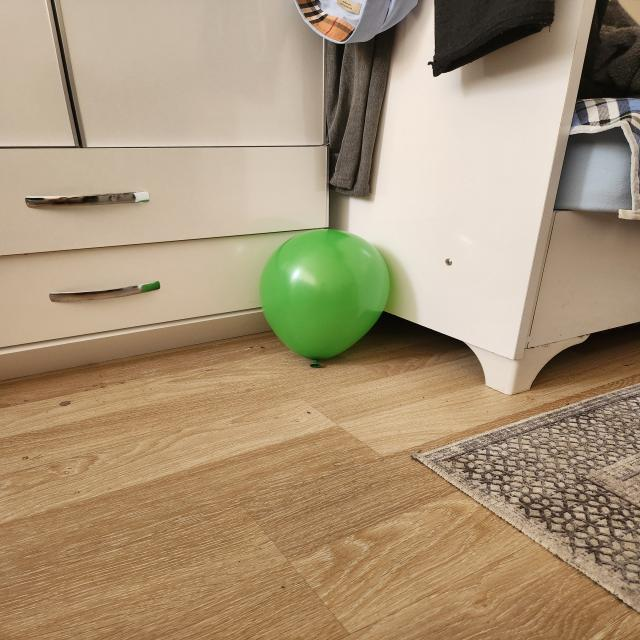green: (262, 230, 392, 369)
